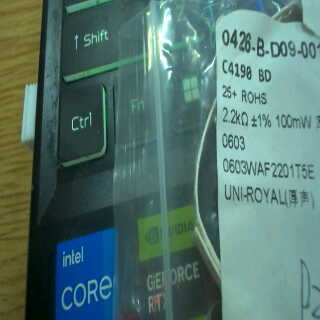2.2kR: (217, 103, 250, 128)
